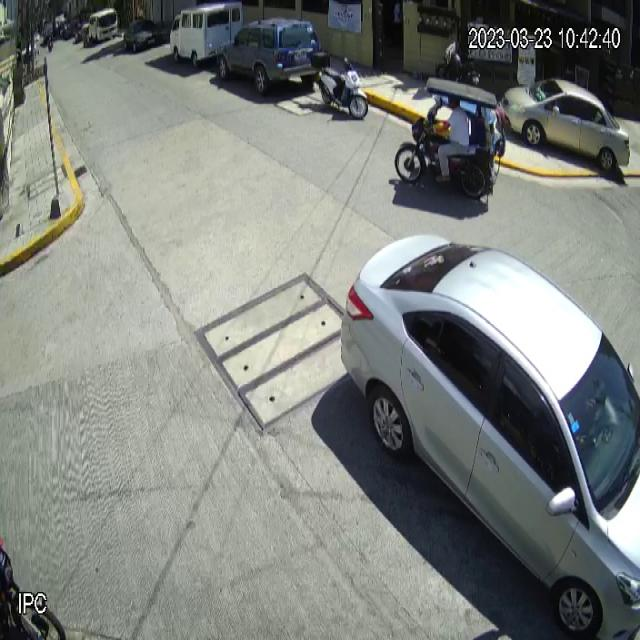Car: (338, 237, 640, 633), (501, 78, 630, 171), (216, 16, 323, 96)
Motorcycle: (312, 54, 368, 120)
Tricycle: (394, 78, 506, 199)
Van: (169, 0, 242, 69)
